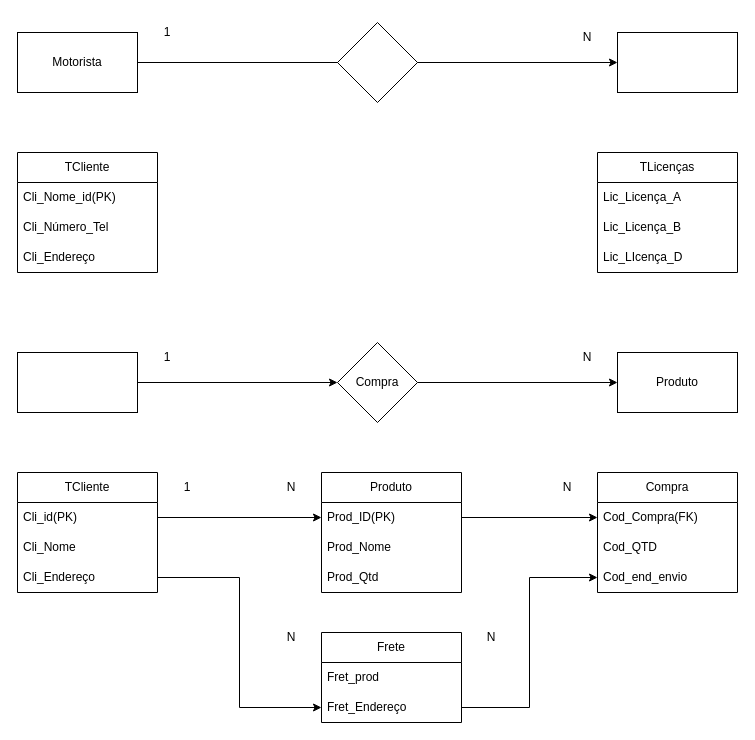
Some shapes in this 755 by 740 pixel diagram are drawn without their labels. The shapes that lost their labels are listed below. From the top down, each one's centre as x and y in pixels, then its label:
At pixel 377 62: "Renova".
At pixel 677 62: "Liçenca".
At pixel 77 382: "Cliente".
